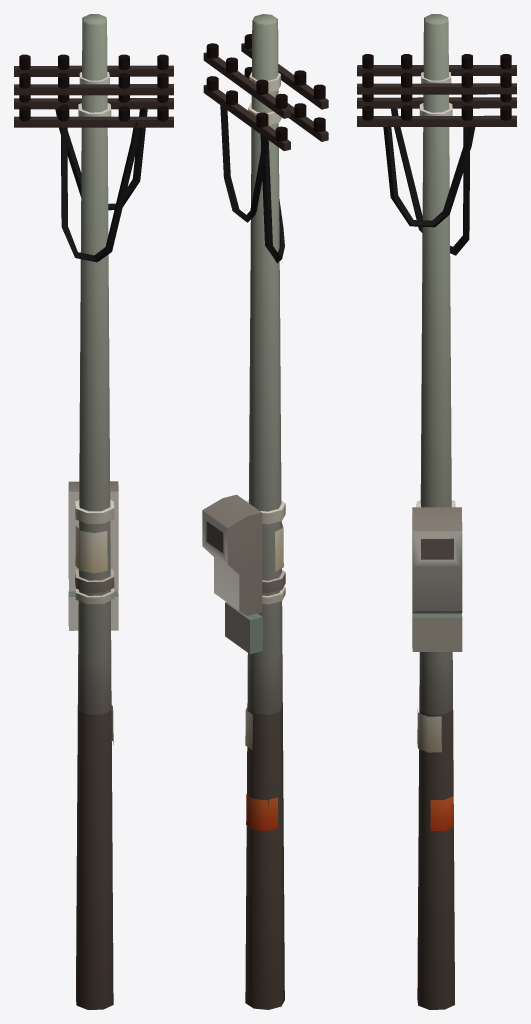
File: SM_Pillar_02.fbx
3 renders of one model, left to right at view 1: azimuth 90°, elevation 25°; view 2: azimuth 210°, elevation 25°; view 3: azimuth 270°, elevation 25°, orthographic.
Parts seen in each view (by area): view 1: SM_Pillar_02; view 2: SM_Pillar_02; view 3: SM_Pillar_02.
Boxes of the visible parts, left/top/right/bottom form: SM_Pillar_02: left=14, top=14, right=173, bottom=1009; SM_Pillar_02: left=202, top=14, right=328, bottom=1009; SM_Pillar_02: left=357, top=14, right=516, bottom=1009.
Size of the model in its own units: 0.5676 by 7.04 by 1.04.
